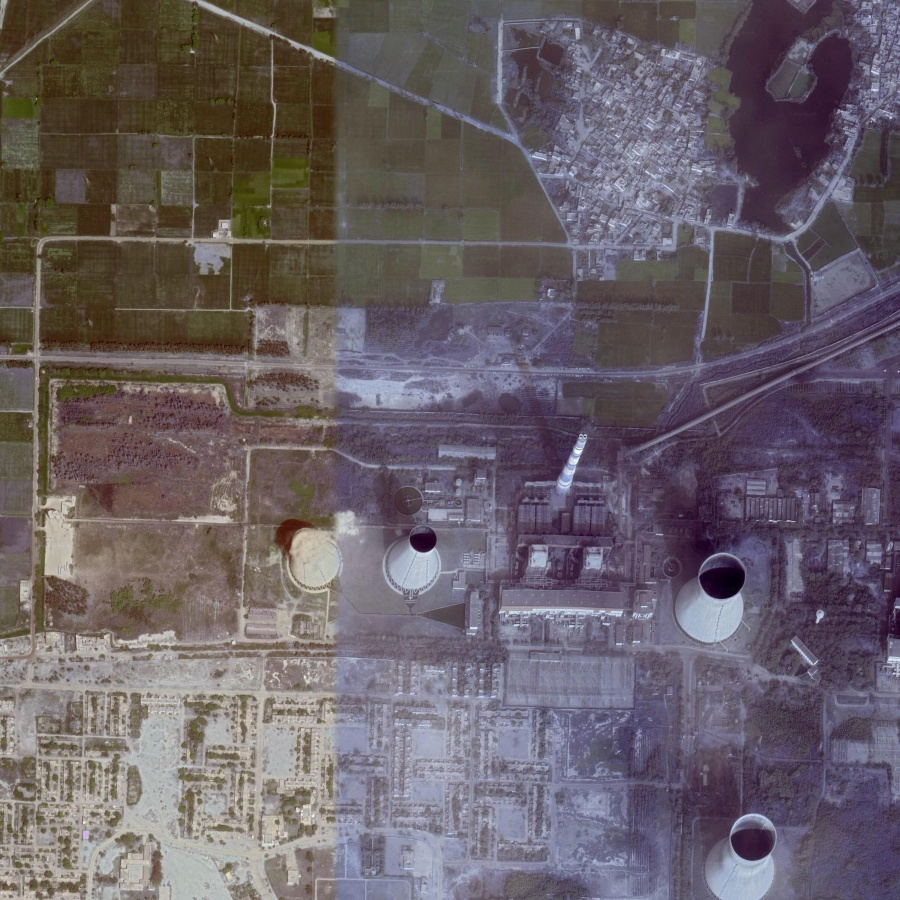PowerPlant: (278, 356, 754, 652)
